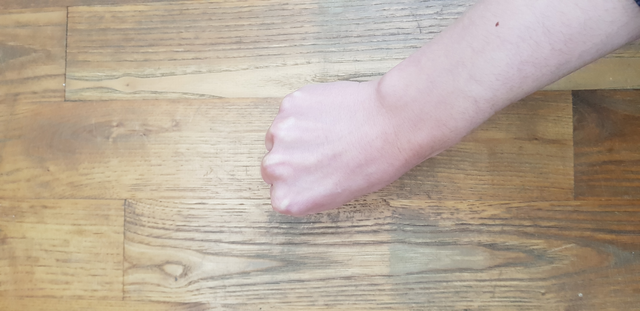Rock: (249, 72, 428, 233)
